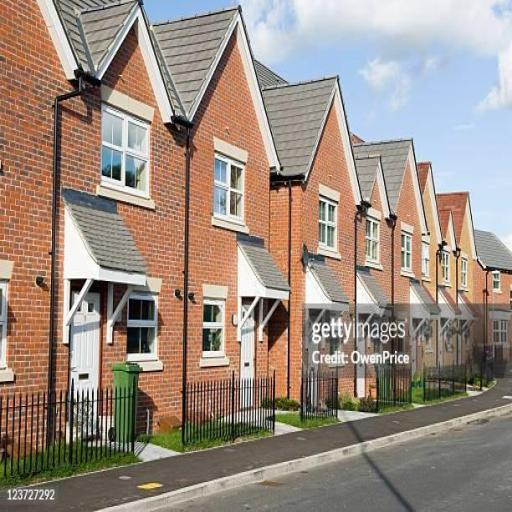door: (75, 295, 101, 458), (240, 298, 257, 415)
